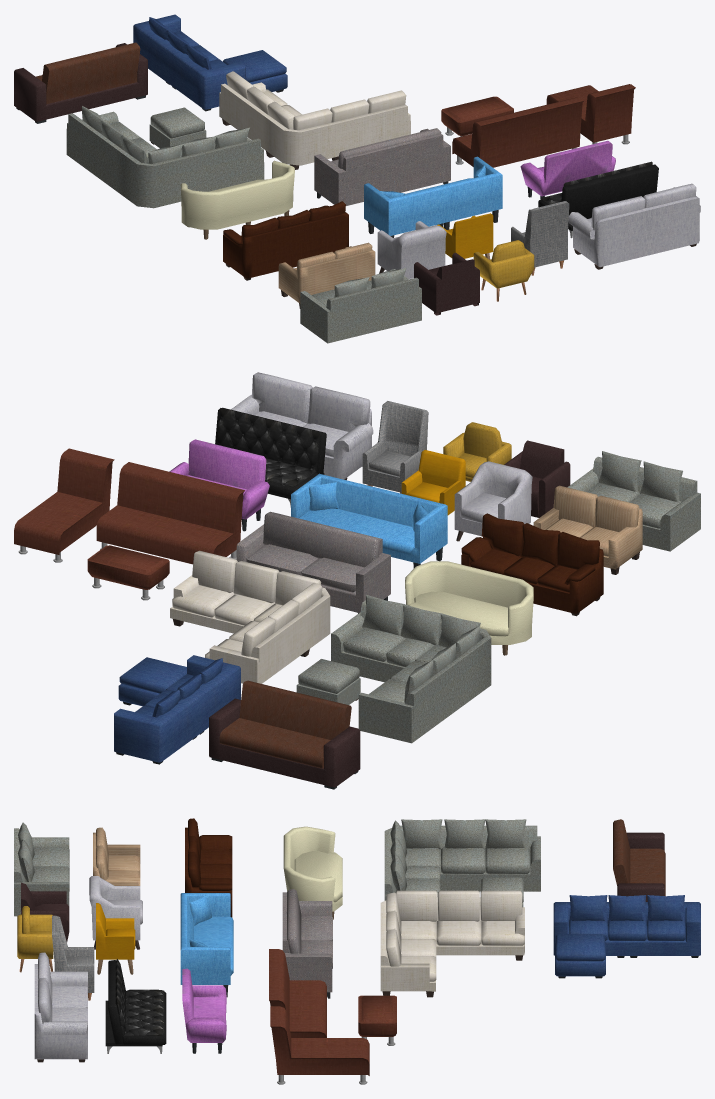
File: armchair.glb
3 renders of one model, top to bottom at view 1: azimuth 30°, elevation 25°; view 2: azimuth 150°, elevation 25°; view 3: azimuth 270°, elevation 25°, orthographic. The views are drawn at different scales.
Parts seen in each view (by area): view 1: Armchair_18, Armchair_17, Armchair, Armchair_22, Armchair_15, Armchair_04, Armchair_11, Armchair_10, Armchair_13, Armchair_20, Armchair_16, Armchair_08 (+11 smaller); view 2: Armchair_18, Armchair_17, Armchair_22, Armchair_13, Armchair_15, Armchair_11, Armchair_10, Armchair_20, Armchair_16, Armchair, Armchair_04, Armchair_12 (+11 smaller); view 3: Armchair_17, Armchair_18, Armchair_20, Armchair, Armchair_10, Armchair_12, Armchair_15, Armchair_16, Armchair_05, Armchair_22, Armchair_04, Armchair_13 (+11 smaller).
Part boxes in pixels (x1,y1,x2,y2): Armchair_18: [66, 106, 264, 208]; Armchair_17: [219, 71, 410, 169]; Armchair: [568, 183, 700, 269]; Armchair_22: [14, 42, 147, 123]; Armchair_15: [314, 128, 450, 205]; Armchair_04: [300, 267, 421, 343]; Armchair_11: [223, 201, 348, 280]; Armchair_10: [364, 156, 502, 237]; Armchair_13: [452, 97, 583, 167]; Armchair_20: [133, 14, 245, 111]; Armchair_16: [180, 160, 294, 239]; Armchair_08: [278, 242, 375, 308]; Armchair_18: [331, 594, 491, 743]; Armchair_17: [170, 550, 330, 683]; Armchair_22: [209, 680, 360, 789]; Armchair_13: [96, 462, 244, 564]; Armchair_15: [236, 511, 390, 613]; Armchair_11: [461, 513, 603, 616]; Armchair_10: [291, 473, 447, 568]; Armchair_20: [114, 655, 240, 764]; Armchair_16: [405, 561, 533, 655]; Armchair: [231, 372, 373, 480]; Armchair_04: [567, 451, 700, 551]; Armchair_12: [14, 448, 114, 562]; Armchair_17: [380, 890, 524, 997]; Armchair_18: [384, 819, 540, 900]; Armchair_20: [553, 895, 700, 957]; Armchair: [34, 952, 87, 1062]; Armchair_10: [180, 893, 233, 997]; Armchair_12: [270, 1006, 369, 1084]; Armchair_15: [282, 889, 332, 998]; Armchair_16: [283, 826, 342, 919]; Armchair_05: [105, 959, 166, 1053]; Armchair_22: [613, 819, 665, 901]; Armchair_04: [14, 822, 69, 916]; Armchair_13: [269, 949, 326, 1037].
Bounding box in the file's own units: 9.26 × 1.4 × 12.39.
Materials: 25 (25 with a texture image).
